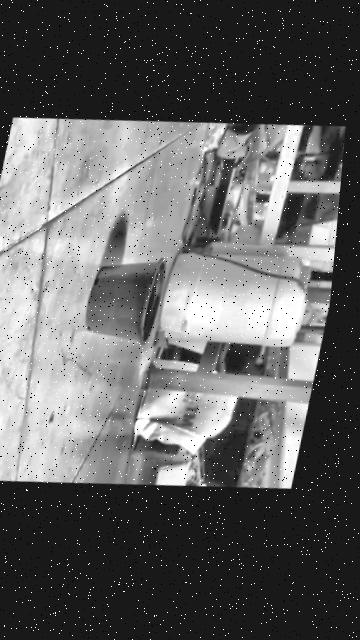pot: (79, 249, 170, 352)
